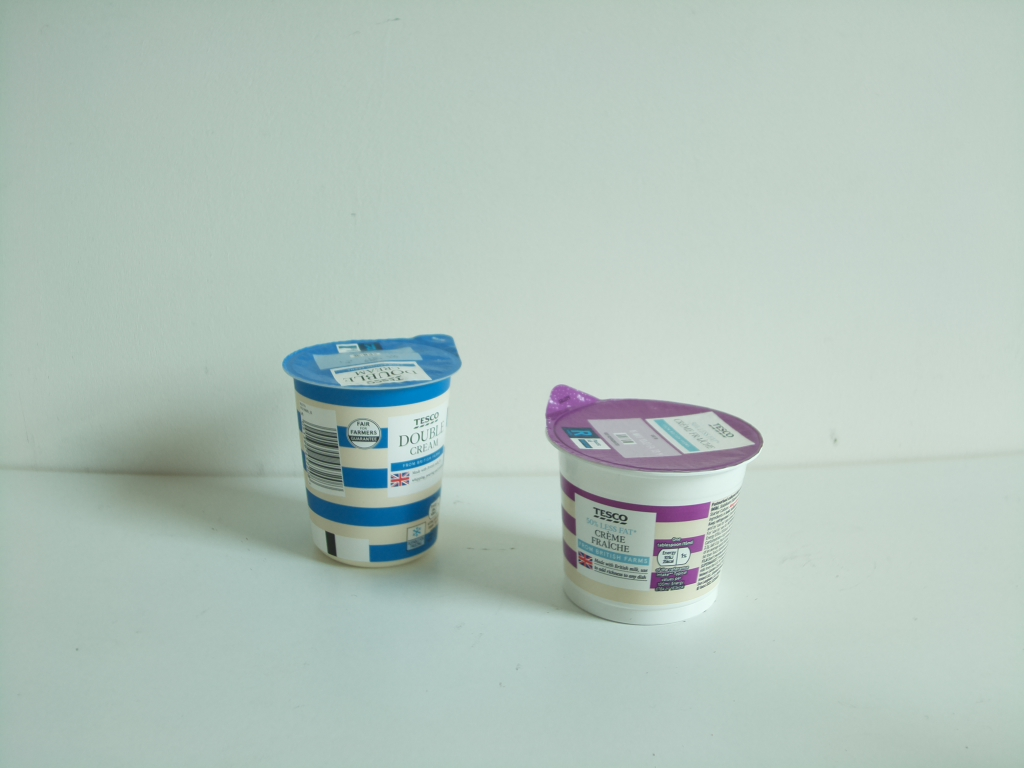cream: (545, 377, 766, 631), (282, 333, 461, 568)
